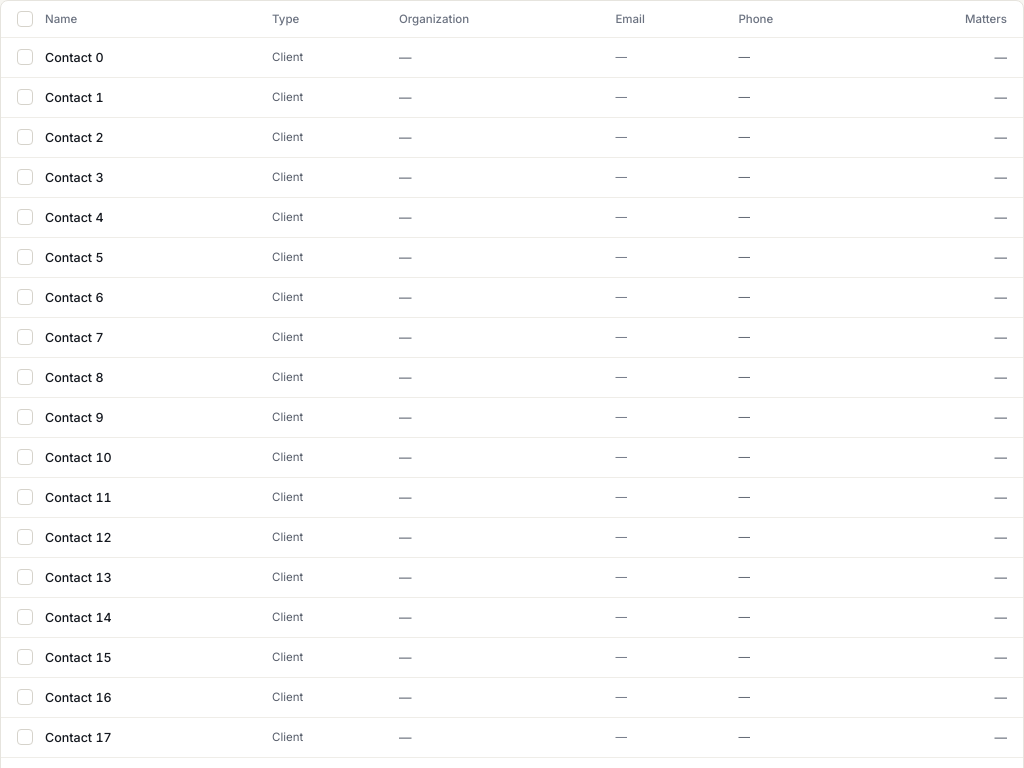
ContactsTable — permissions + cap › over the batch cap: actions swap for a trim note
Click the checkbox named "Select all contacts" at (25, 19), box top-left (17, 11), bottom-right (33, 27)
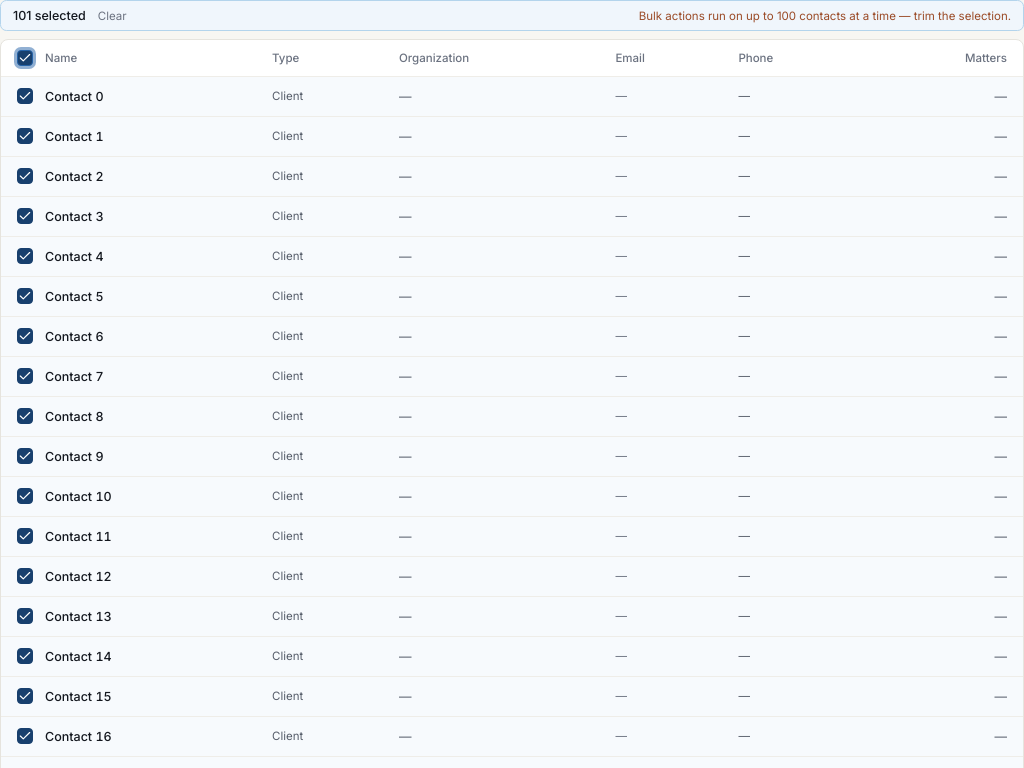
expect the text "trim the selection" is shown: met, box top-left (796, 8), bottom-right (1011, 22)
